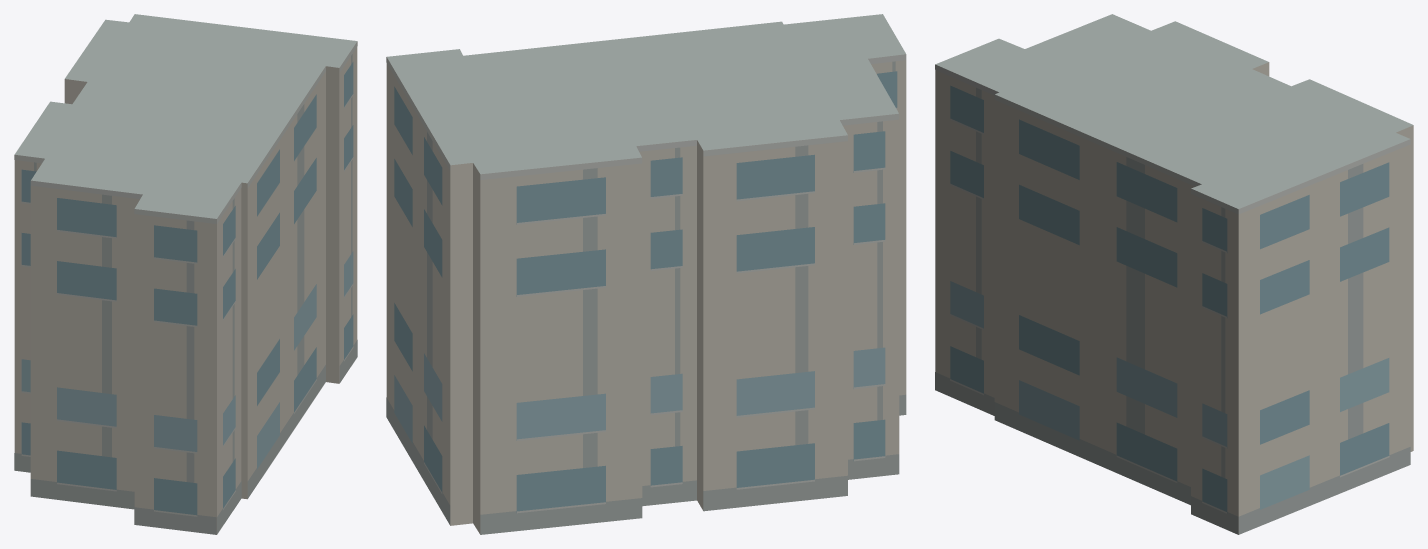
The model's file is survey-upis-32595504.glb.
The picture shows the model from 3 angles, left to right: view 1: azimuth 30°, elevation 25°; view 2: azimuth 150°, elevation 25°; view 3: azimuth 270°, elevation 25°; orthographic projection. The views are drawn at different scales.
Parts seen in each view (by area): view 1: survey-upis-32595504.tmp; view 2: survey-upis-32595504.tmp; view 3: survey-upis-32595504.tmp.
Boxes of the visible parts, x1=… form: survey-upis-32595504.tmp: x1=14, y1=14, x2=357, y2=534; survey-upis-32595504.tmp: x1=386, y1=14, x2=906, y2=534; survey-upis-32595504.tmp: x1=935, y1=14, x2=1413, y2=534.
Size of the model in its own units: 19.15 by 14.9 by 19.85.
